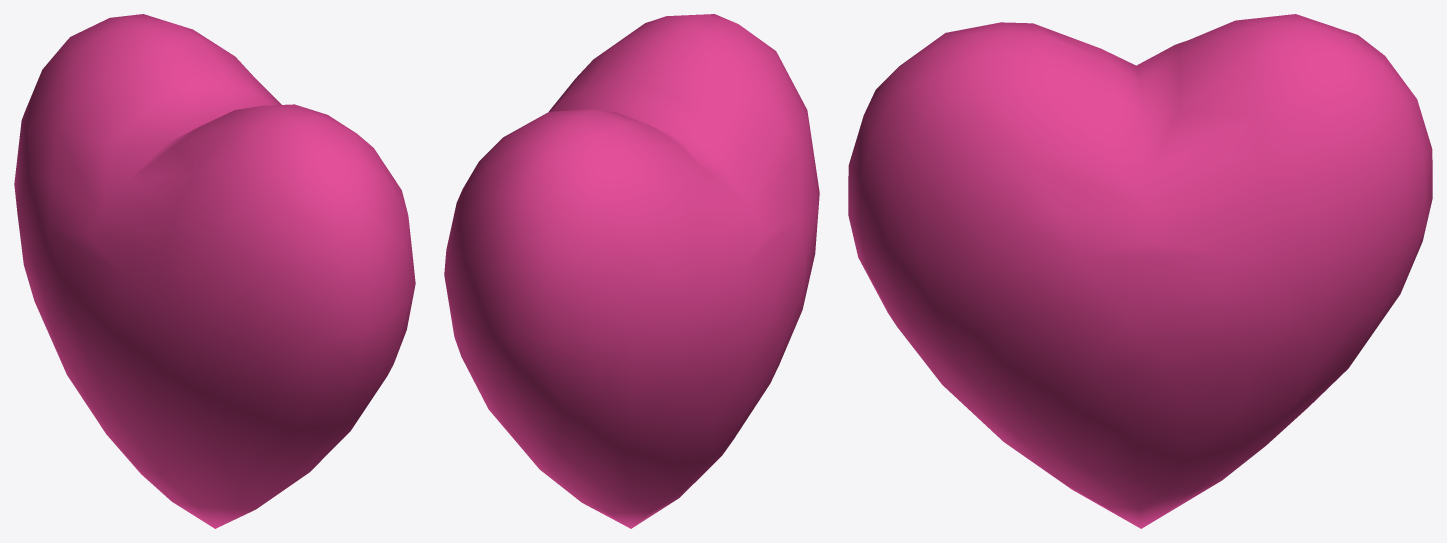
The model's file is Heart.fbx.
The picture shows the model from 3 angles, left to right: view 1: azimuth 30°, elevation 25°; view 2: azimuth 150°, elevation 25°; view 3: azimuth 270°, elevation 25°; orthographic projection. The views are drawn at different scales.
Visible parts, largest first — view 1: Heart; view 2: Heart; view 3: Heart.
Boxes of the visible parts, bbox=[...] form: Heart: bbox=[14, 14, 415, 528]; Heart: bbox=[444, 14, 819, 528]; Heart: bbox=[848, 14, 1432, 528].
Bounding box in the file's own units: 45.36 × 67.91 × 71.75.
